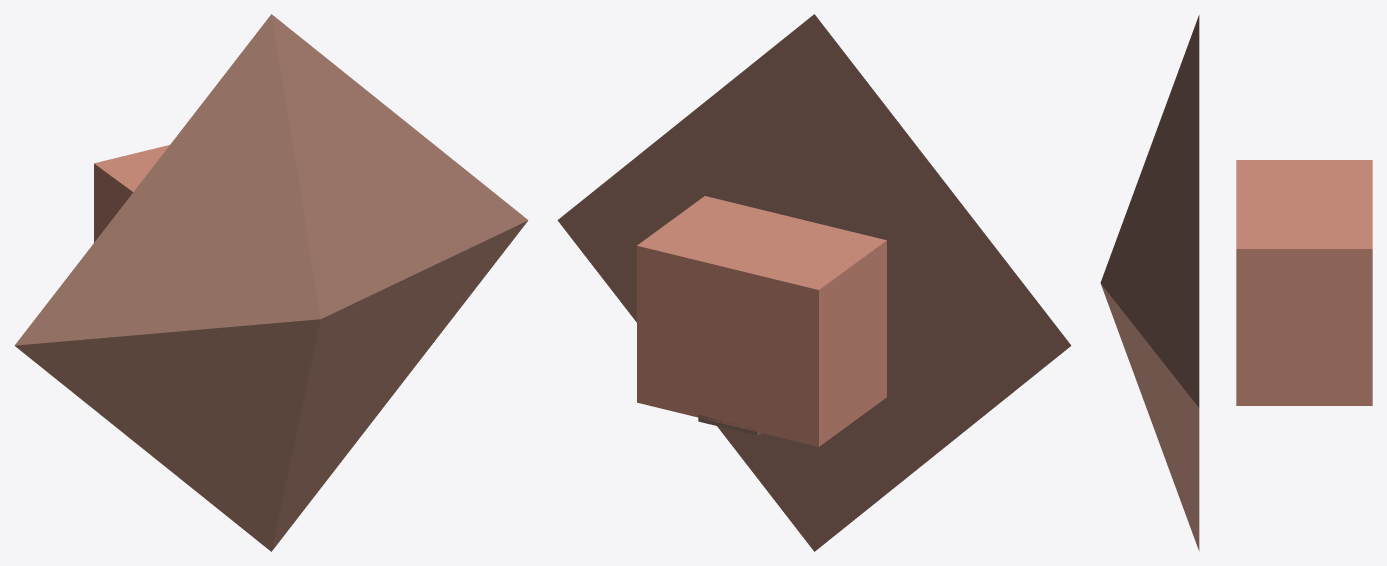
The model's file is barn.glb.
3 views of the same model, side by side, from view 1: azimuth 30°, elevation 25°; view 2: azimuth 150°, elevation 25°; view 3: azimuth 270°, elevation 25° (orthographic).
Visible parts, largest first — view 1: roof, walls; view 2: roof, walls; view 3: walls, roof.
Part boxes in pixels (bbox=[...]): roof: bbox=[14, 14, 528, 551]; walls: bbox=[94, 145, 169, 242]; roof: bbox=[557, 14, 1071, 551]; walls: bbox=[637, 196, 886, 446]; walls: bbox=[1236, 160, 1372, 405]; roof: bbox=[1100, 15, 1199, 550].
Size of the model in its own units: 9.6 by 9.6 by 4.4.
